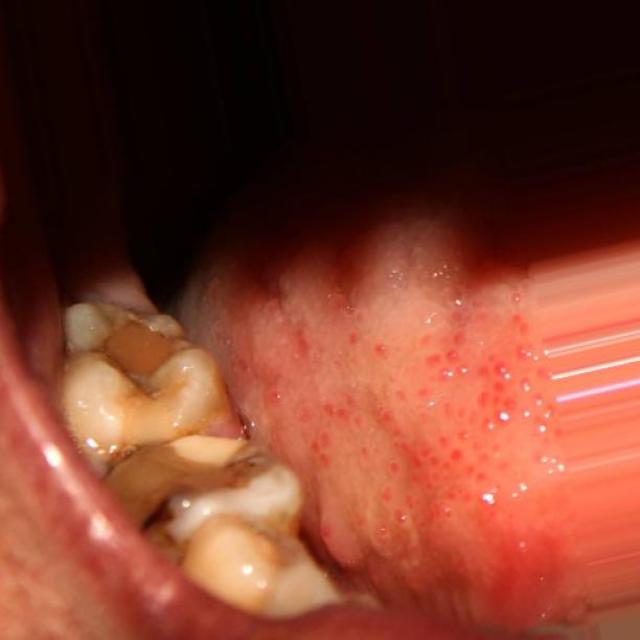caries: (101, 414, 289, 542), (61, 295, 198, 420)
